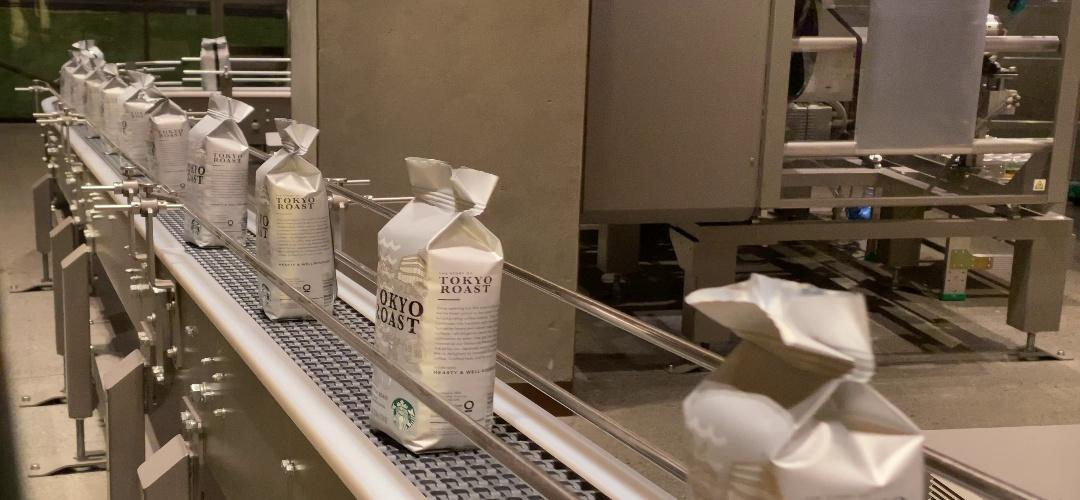conveyor: (688, 403, 923, 500), (378, 232, 502, 352), (258, 176, 332, 260), (186, 134, 250, 204)
